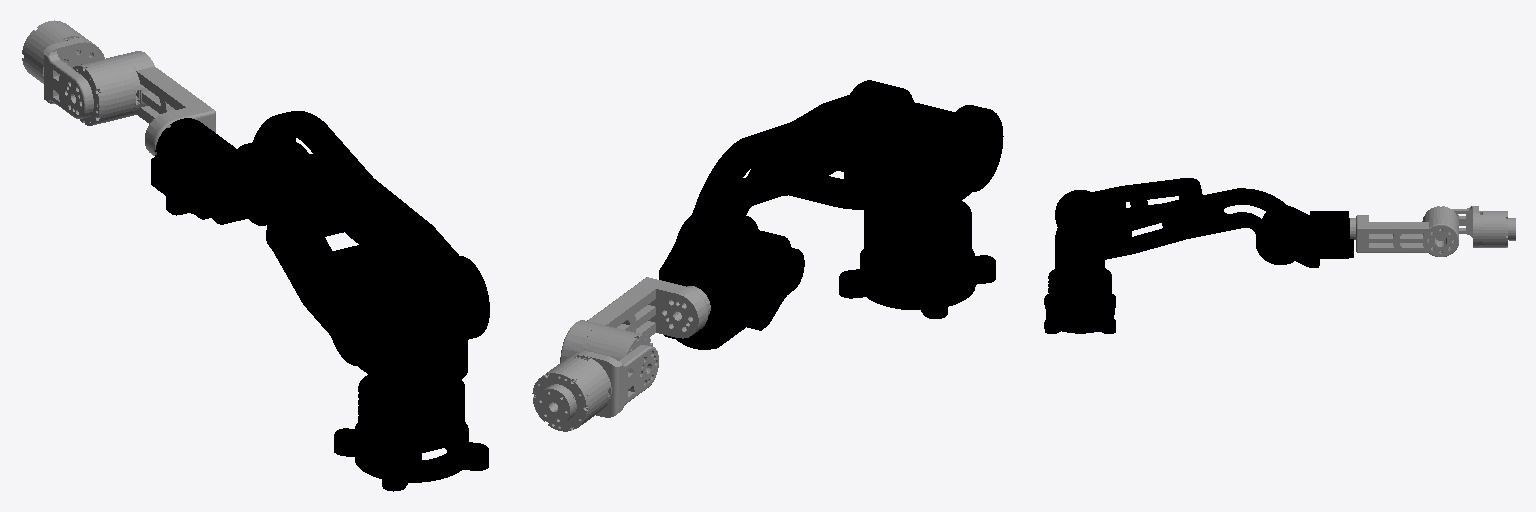
URDF robot description (urdf4):
<?xml version="1.0" encoding="utf-8"?>
<!-- This URDF was automatically created by SolidWorks to URDF Exporter! Originally created by [author] ([email redacted]) 
     Commit Version: 1.6.0-4-g7f85cfe  Build Version: 1.6.7995.38578
     For more information, please see http://wiki.ros.org/sw_urdf_exporter -->
<robot
  name="urdf4">
  <link
    name="base_link">
    <inertial>
      <origin
        xyz="-3.1871E-05 0.00068378 0.040841"
        rpy="0 0 0" />
      <mass
        value="0.49675" />
      <inertia
        ixx="0.00043796"
        ixy="-1.1045E-07"
        ixz="3.5734E-08"
        iyy="0.0004526"
        iyz="-3.6024E-06"
        izz="0.00075404" />
    </inertial>
    <visual>
      <origin
        xyz="0 0 0"
        rpy="0 0 0" />
      <geometry>
        <mesh
          filename="package://urdf4/meshes/base_link.STL" />
      </geometry>
      <material
        name="">
        <color
          rgba="0 0 0 1" />
      </material>
    </visual>
    <collision>
      <origin
        xyz="0 0 0"
        rpy="0 0 0" />
      <geometry>
        <mesh
          filename="package://urdf4/meshes/base_link.STL" />
      </geometry>
    </collision>
  </link>
  <link
    name="Link1">
    <inertial>
      <origin
        xyz="3.0427E-05 -0.0044829 0.048306"
        rpy="0 0 0" />
      <mass
        value="0.36373" />
      <inertia
        ixx="0.00042974"
        ixy="-1.9516E-08"
        ixz="-1.43E-08"
        iyy="0.00036914"
        iyz="7.1409E-05"
        izz="0.00033932" />
    </inertial>
    <visual>
      <origin
        xyz="0 0 0"
        rpy="0 0 0" />
      <geometry>
        <mesh
          filename="package://urdf4/meshes/Link1.STL" />
      </geometry>
      <material
        name="">
        <color
          rgba="0 0 0 1" />
      </material>
    </visual>
    <collision>
      <origin
        xyz="0 0 0"
        rpy="0 0 0" />
      <geometry>
        <mesh
          filename="package://urdf4/meshes/Link1.STL" />
      </geometry>
    </collision>
  </link>
  <joint
    name="joint1"
    type="revolute">
    <origin
      xyz="0 0 0.0817"
      rpy="0 0 1.5708" />
    <parent
      link="base_link" />
    <child
      link="Link1" />
    <axis
      xyz="0 0 1" />
    <limit
      lower="0"
      upper="0"
      effort="0"
      velocity="0" />
  </joint>
  <link
    name="Link2">
    <inertial>
      <origin
        xyz="0.14628 -0.017311 -0.0087565"
        rpy="0 0 0" />
      <mass
        value="1.104" />
      <inertia
        ixx="0.0011443"
        ixy="0.0003774"
        ixz="0.00017999"
        iyy="0.004085"
        iyz="-6.8593E-05"
        izz="0.0042929" />
    </inertial>
    <visual>
      <origin
        xyz="0 0 0"
        rpy="0 0 0" />
      <geometry>
        <mesh
          filename="package://urdf4/meshes/Link2.STL" />
      </geometry>
      <material
        name="">
        <color
          rgba="0 0 0 1" />
      </material>
    </visual>
    <collision>
      <origin
        xyz="0 0 0"
        rpy="0 0 0" />
      <geometry>
        <mesh
          filename="package://urdf4/meshes/Link2.STL" />
      </geometry>
    </collision>
  </link>
  <joint
    name="joint2"
    type="revolute">
    <origin
      xyz="0 0.005226 0.0685"
      rpy="-1.5708 0 0" />
    <parent
      link="Link1" />
    <child
      link="Link2" />
    <axis
      xyz="0 0 1" />
    <limit
      lower="0"
      upper="0"
      effort="0"
      velocity="0" />
  </joint>
  <link
    name="Link3">
    <inertial>
      <origin
        xyz="-0.0085163 0.05807 -0.006198"
        rpy="0 0 0" />
      <mass
        value="0.29688" />
      <inertia
        ixx="0.00044087"
        ixy="5.3269E-05"
        ixz="9.692E-06"
        iyy="0.00035306"
        iyz="-4.0921E-05"
        izz="0.00025335" />
    </inertial>
    <visual>
      <origin
        xyz="0 0 0"
        rpy="0 0 0" />
      <geometry>
        <mesh
          filename="package://urdf4/meshes/Link3.STL" />
      </geometry>
      <material
        name="">
        <color
          rgba="0 0 0 1" />
      </material>
    </visual>
    <collision>
      <origin
        xyz="0 0 0"
        rpy="0 0 0" />
      <geometry>
        <mesh
          filename="package://urdf4/meshes/Link3.STL" />
      </geometry>
    </collision>
  </link>
  <joint
    name="joint3"
    type="revolute">
    <origin
      xyz="0.30728 0 0"
      rpy="0 0 -1.5708" />
    <parent
      link="Link2" />
    <child
      link="Link3" />
    <axis
      xyz="0 0 1" />
    <limit
      lower="0"
      upper="0"
      effort="0"
      velocity="0" />
  </joint>
  <link
    name="Link4">
    <inertial>
      <origin
        xyz="3.2901E-05 0.014561 0.099003"
        rpy="0 0 0" />
      <mass
        value="0.25887" />
      <inertia
        ixx="0.0004889"
        ixy="-7.2496E-08"
        ixz="1.2726E-07"
        iyy="0.00049315"
        iyz="-6.6658E-05"
        izz="9.7487E-05" />
    </inertial>
    <visual>
      <origin
        xyz="0 0 0"
        rpy="0 0 0" />
      <geometry>
        <mesh
          filename="package://urdf4/meshes/Link4.STL" />
      </geometry>
      <material
        name="">
        <color
          rgba="0.62745 0.62745 0.62745 1" />
      </material>
    </visual>
    <collision>
      <origin
        xyz="0 0 0"
        rpy="0 0 0" />
      <geometry>
        <mesh
          filename="package://urdf4/meshes/Link4.STL" />
      </geometry>
    </collision>
  </link>
  <joint
    name="joint4"
    type="revolute">
    <origin
      xyz="2E-05 0.106 0"
      rpy="-1.5708 0 0" />
    <parent
      link="Link3" />
    <child
      link="Link4" />
    <axis
      xyz="2.6685E-05 0 1" />
    <limit
      lower="0"
      upper="0"
      effort="0"
      velocity="0" />
  </joint>
  <link
    name="Link5">
    <inertial>
      <origin
        xyz="1.9202E-05 0.067588 0.0049078"
        rpy="0 0 0" />
      <mass
        value="0.15475" />
      <inertia
        ixx="7.1246E-05"
        ixy="-4.438E-08"
        ixz="4.2013E-08"
        iyy="6.7615E-05"
        iyz="1.1083E-05"
        izz="6.5879E-05" />
    </inertial>
    <visual>
      <origin
        xyz="0 0 0"
        rpy="0 0 0" />
      <geometry>
        <mesh
          filename="package://urdf4/meshes/Link5.STL" />
      </geometry>
      <material
        name="">
        <color
          rgba="0.62745 0.62745 0.62745 1" />
      </material>
    </visual>
    <collision>
      <origin
        xyz="0 0 0"
        rpy="0 0 0" />
      <geometry>
        <mesh
          filename="package://urdf4/meshes/Link5.STL" />
      </geometry>
    </collision>
  </link>
  <joint
    name="joint5"
    type="revolute">
    <origin
      xyz="0 0 0.14"
      rpy="1.5708 0 0" />
    <parent
      link="Link4" />
    <child
      link="Link5" />
    <axis
      xyz="0 0 1" />
    <limit
      lower="0"
      upper="0"
      effort="0"
      velocity="0" />
  </joint>
  <link
    name="Link6">
    <inertial>
      <origin
        xyz="2.2227E-05 8.6911E-06 0.005"
        rpy="0 0 0" />
      <mass
        value="0.0083968" />
      <inertia
        ixx="7.6242E-07"
        ixy="9.1916E-10"
        ixz="5.6845E-21"
        iyy="7.6043E-07"
        iyz="-7.0569E-22"
        izz="1.3829E-06" />
    </inertial>
    <visual>
      <origin
        xyz="0 0 0"
        rpy="0 0 0" />
      <geometry>
        <mesh
          filename="package://urdf4/meshes/Link6.STL" />
      </geometry>
      <material
        name="">
        <color
          rgba="0.62745 0.62745 0.62745 1" />
      </material>
    </visual>
    <collision>
      <origin
        xyz="0 0 0"
        rpy="0 0 0" />
      <geometry>
        <mesh
          filename="package://urdf4/meshes/Link6.STL" />
      </geometry>
    </collision>
  </link>
  <joint
    name="joint6"
    type="revolute">
    <origin
      xyz="0 0.1045 0"
      rpy="-1.5708 0 0" />
    <parent
      link="Link5" />
    <child
      link="Link6" />
    <axis
      xyz="2.6685E-05 0 1" />
    <limit
      lower="0"
      upper="0"
      effort="0"
      velocity="0" />
  </joint>
</robot>

--- What the picture shows (computed from the rendered views, not written in the file) ---
The picture shows the robot from 3 angles, left to right: view 1: azimuth 30°, elevation 25°; view 2: azimuth 150°, elevation 25°; view 3: azimuth 270°, elevation 25°; orthographic projection.
Model urdf4 with 7 links and 6 joints (6 revolute), rooted at base_link, posed every joint at zero.
Links seen in each view (by area): view 1: Link2, base_link, Link1, Link4, Link3, Link5; view 2: Link2, base_link, Link3, Link4, Link5, Link1, Link6; view 3: Link2, Link4, base_link, Link3, Link5, Link1.
Boxes of the visible links, x1=… form: Link2: x1=203, y1=111, x2=489, y2=365; base_link: x1=334, y1=375, x2=488, y2=491; Link1: x1=358, y1=260, x2=469, y2=394; Link4: x1=73, y1=51, x2=215, y2=155; Link3: x1=151, y1=118, x2=308, y2=219; Link5: x1=22, y1=20, x2=104, y2=118; Link2: x1=683, y1=80, x2=1003, y2=281; base_link: x1=839, y1=201, x2=995, y2=318; Link3: x1=659, y1=215, x2=804, y2=349; Link4: x1=560, y1=277, x2=710, y2=362; Link5: x1=532, y1=345, x2=658, y2=431; Link1: x1=862, y1=85, x2=971, y2=221; Link6: x1=537, y1=385, x2=575, y2=424; Link2: x1=1055, y1=178, x2=1305, y2=269; Link4: x1=1350, y1=206, x2=1458, y2=256; base_link: x1=1044, y1=268, x2=1115, y2=333; Link3: x1=1261, y1=206, x2=1353, y2=267; Link5: x1=1452, y1=206, x2=1508, y2=247; Link1: x1=1055, y1=203, x2=1104, y2=278.
Size in the robot's own frame: 0.1325 by 0.7229 by 0.2344 metres.
Meshes: 7 distinct files referenced, 7 mesh visuals loaded (7 binary STL).
